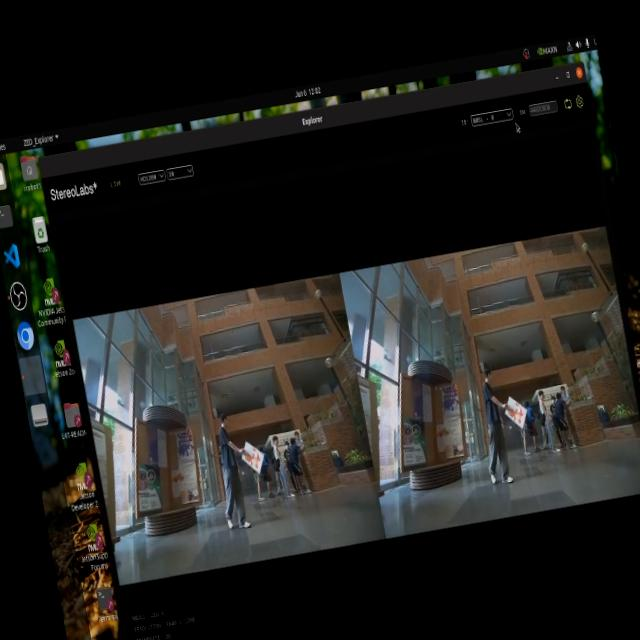red: (240, 444, 273, 478), (502, 398, 533, 430)
